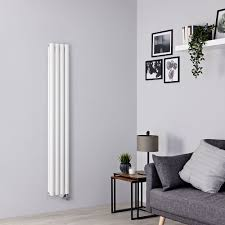Radiator: (47, 42, 71, 200)
